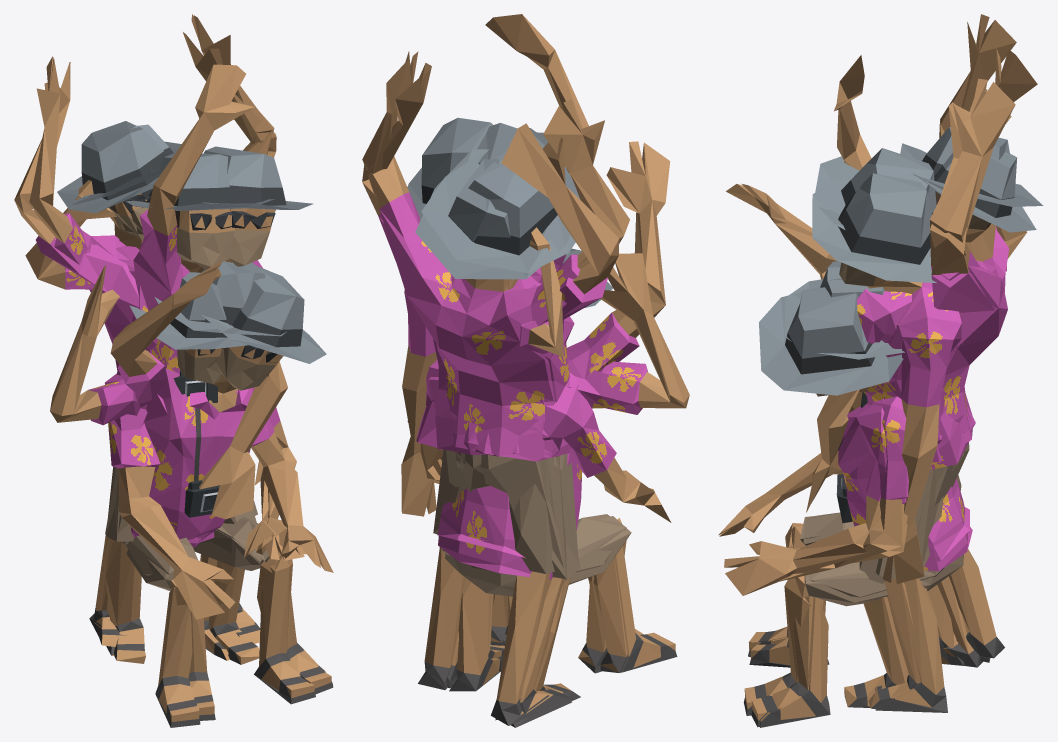
Rendered from crowd_d.glb.
3 views of the same model, side by side, from view 1: azimuth 30°, elevation 25°; view 2: azimuth 150°, elevation 25°; view 3: azimuth 270°, elevation 25° (orthographic). The views are drawn at different scales.
Parts seen in each view (by area): view 1: sit_cheer_b, sit, fist_a, sit_cheer_a, fist_b, arms_b, arms_a; view 2: arms_b, arms_a, fist_b, sit, sit_cheer_a, sit_cheer_b, fist_a; view 3: fist_b, arms_b, sit_cheer_b, sit, fist_a, sit_cheer_a, arms_a.
Part boxes in pixels (bbox=[...]): sit_cheer_b: bbox=[110, 261, 333, 723]; sit: bbox=[105, 272, 333, 720]; fist_a: bbox=[25, 152, 287, 664]; sit_cheer_a: bbox=[50, 261, 333, 727]; fist_b: bbox=[103, 64, 313, 660]; arms_b: bbox=[29, 14, 274, 636]; arms_a: bbox=[14, 32, 276, 646]; arms_b: bbox=[362, 51, 629, 725]; arms_a: bbox=[362, 63, 619, 720]; fist_b: bbox=[401, 14, 588, 727]; sit: bbox=[428, 251, 671, 673]; sit_cheer_a: bbox=[402, 250, 689, 672]; sit_cheer_b: bbox=[411, 141, 670, 672]; fist_a: bbox=[455, 123, 580, 701]; fist_b: bbox=[812, 55, 982, 667]; arms_b: bbox=[875, 14, 1043, 712]; sit_cheer_b: bbox=[726, 183, 968, 727]; sit: bbox=[718, 427, 972, 715]; fist_a: bbox=[806, 148, 1027, 707]; sit_cheer_a: bbox=[748, 261, 969, 727]; arms_a: bbox=[868, 48, 1037, 708].
Bounding box in the file's own units: 0.9743 × 2.17 × 1.01.
Materials: 1 (1 with a texture image).
